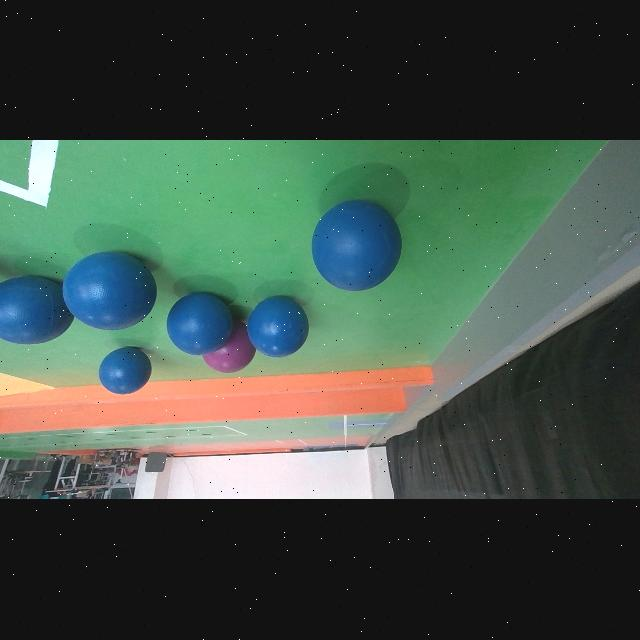B: (312, 200, 402, 292), (62, 250, 158, 332), (166, 293, 234, 357), (247, 296, 310, 359), (98, 348, 152, 396)
P: (200, 355, 252, 371)
